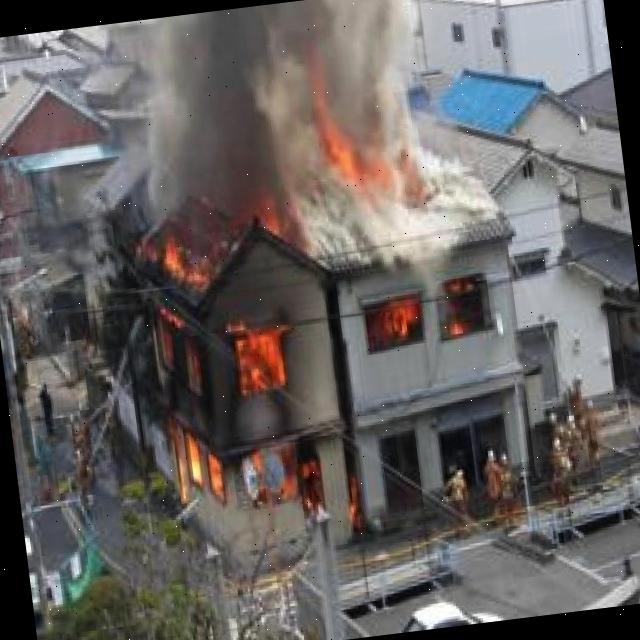fire: (138, 200, 332, 538), (368, 274, 492, 346), (326, 120, 398, 196)
